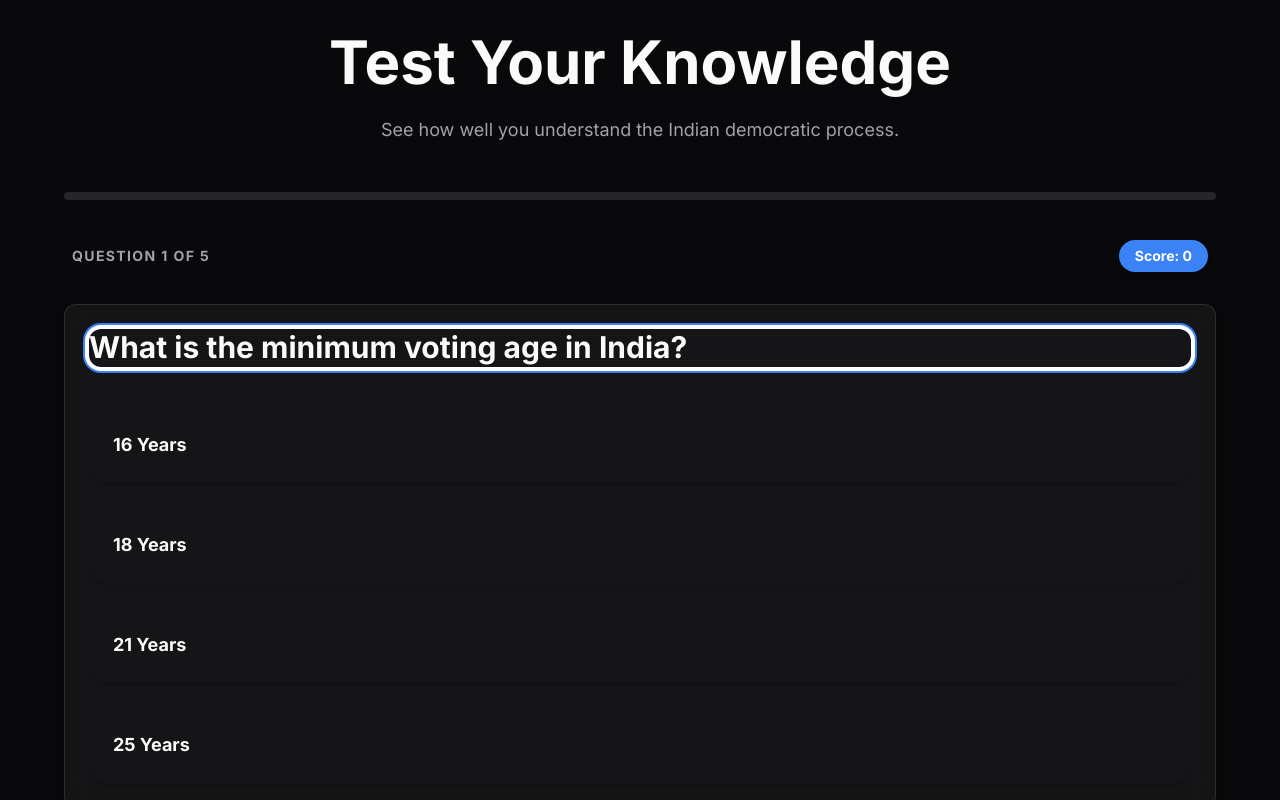
Test: Quizzes Component › updates score correctly when correct answer is selected
Click the button "18 Years": (150, 544) [89,506,1191,582]
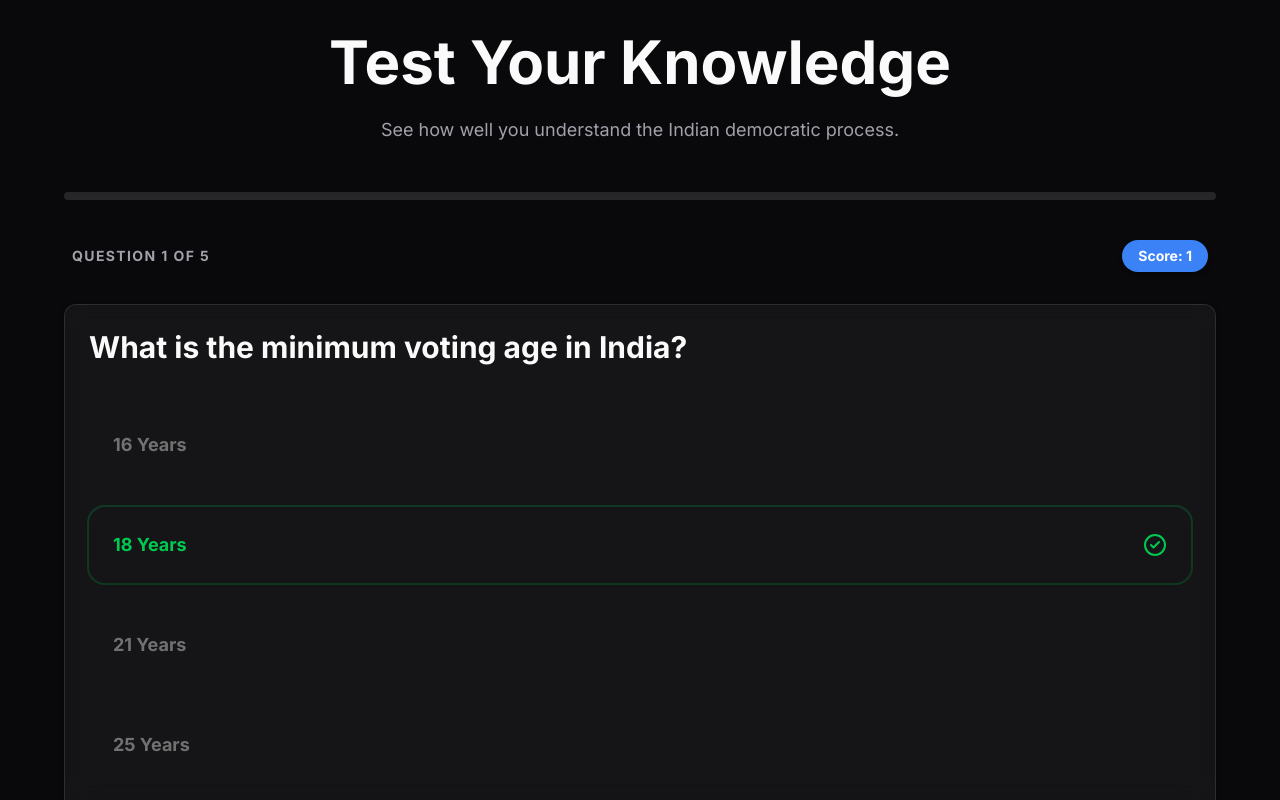
Expected: the text "Score: 1" is shown, [1122,240,1208,272]
